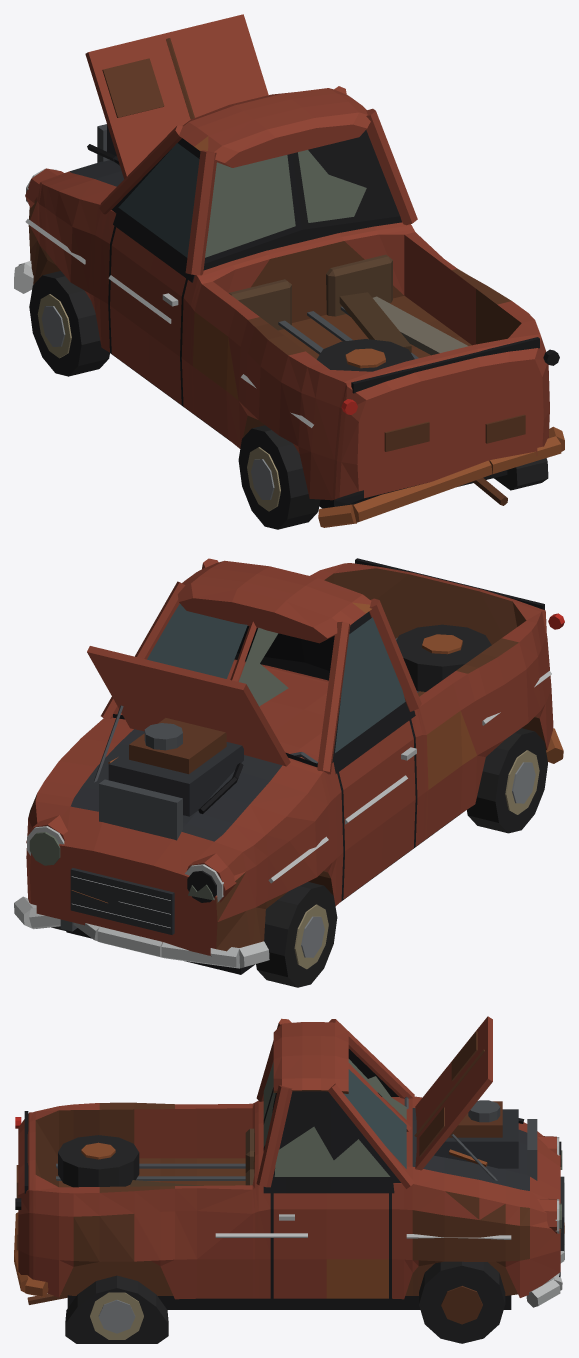
The model's file is car_pickup_red.fbx.
The picture shows the model from 3 angles, top to bottom: view 1: azimuth 30°, elevation 25°; view 2: azimuth 150°, elevation 25°; view 3: azimuth 270°, elevation 25°; orthographic projection. The views are drawn at different scales.
Visible parts, largest first — view 1: car_pickup_red; view 2: car_pickup_red; view 3: car_pickup_red.
Boxes of the visible parts, bbox=[...] form: car_pickup_red: bbox=[14, 14, 564, 529]; car_pickup_red: bbox=[14, 558, 564, 987]; car_pickup_red: bbox=[14, 1016, 564, 1343].
Size of the model in its own units: 1.99 by 2.21 by 4.47.
